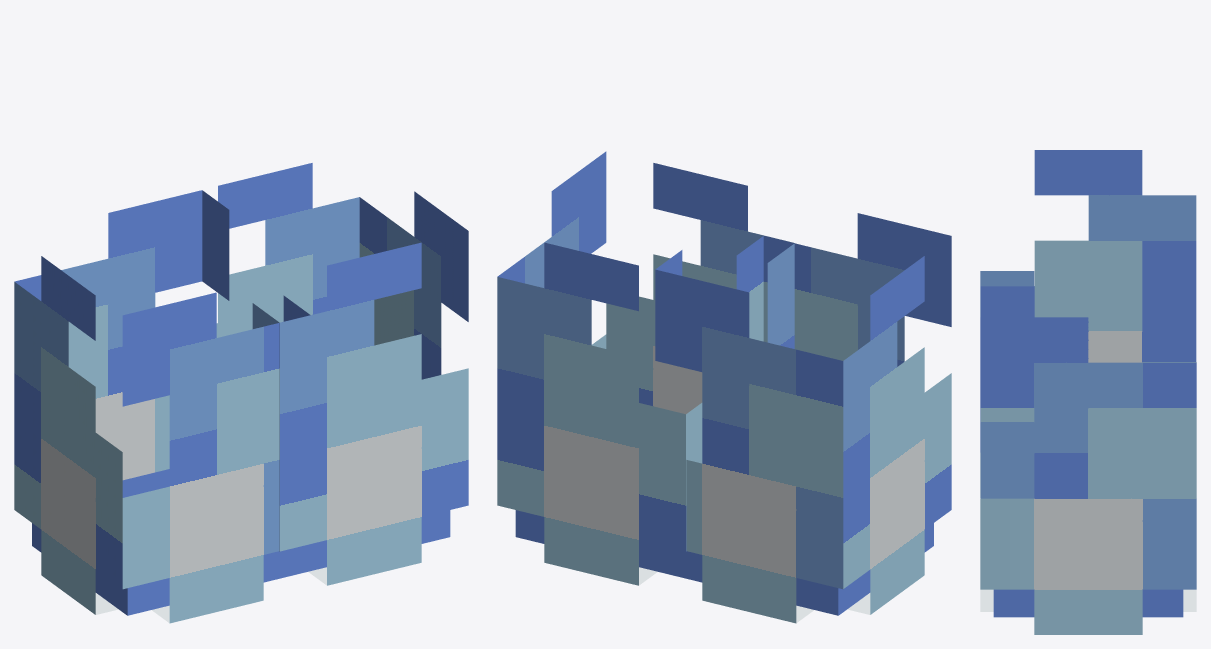
The model's file is sl_legacy_fire_feet.glb.
3 views of the same model, side by side, from view 1: azimuth 30°, elevation 25°; view 2: azimuth 150°, elevation 25°; view 3: azimuth 270°, elevation 25° (orthographic).
Parts seen in each view (by area): view 1: bb_legacy_fire_feet; view 2: bb_legacy_fire_feet; view 3: bb_legacy_fire_feet.
Part boxes in pixels (left/top/right/bottom): bb_legacy_fire_feet: left=14, top=163, right=468, bottom=623; bb_legacy_fire_feet: left=497, top=151, right=951, bottom=623; bb_legacy_fire_feet: left=980, top=150, right=1196, bottom=634.
Bounding box in the file's own units: 0.5219 × 0.66 × 0.285.
1 material, 1 textured.
